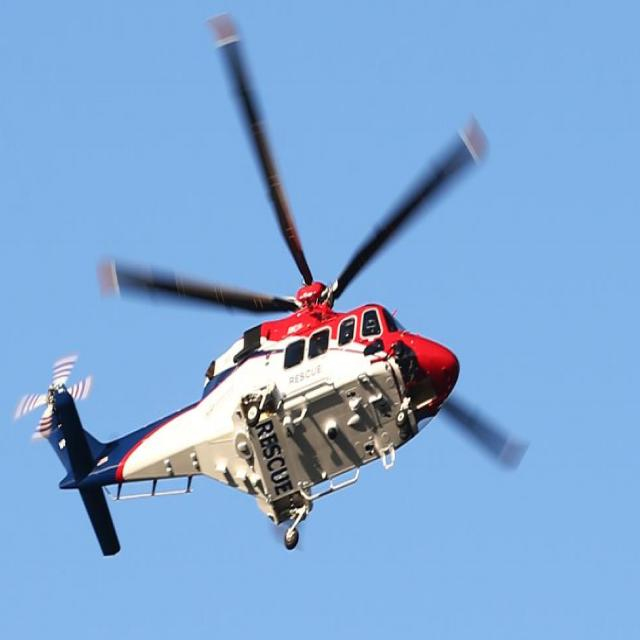helicopter: (6, 19, 539, 561)
